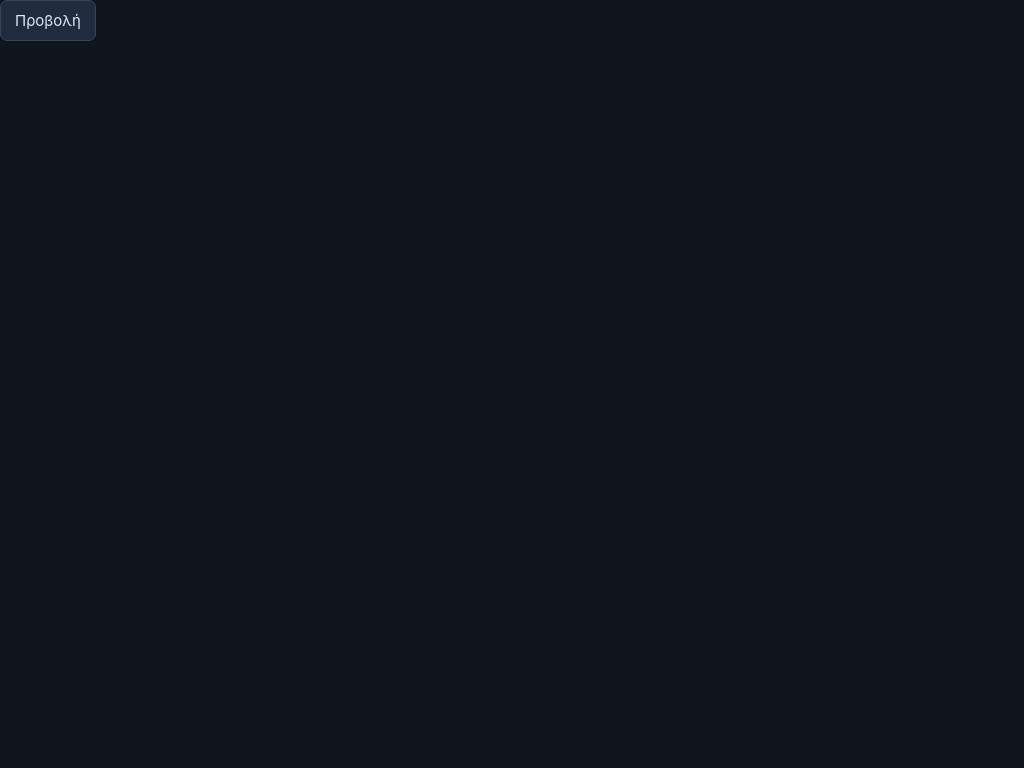
Test: safe file preview dialog › offers download without fetching unsupported or oversized archive.zip
The image size is (1024, 768).
Click the button "Προβολή" at [48, 20], box left=0, top=0, right=96, bottom=41
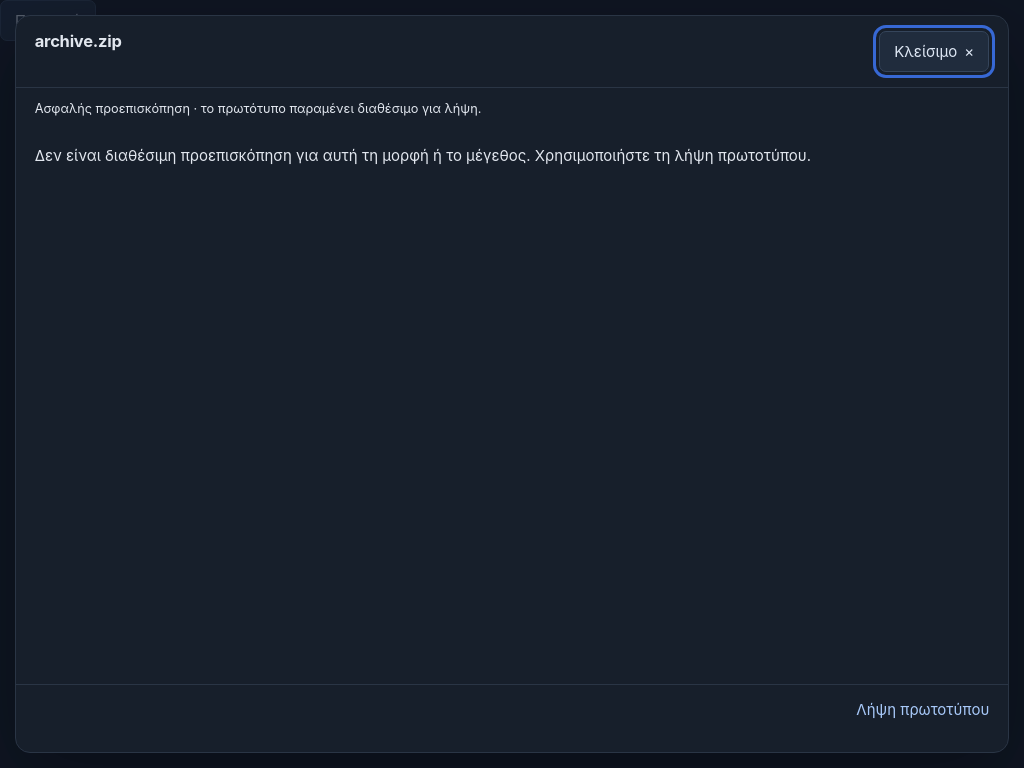
Expected: the message shows "Δεν είναι διαθέσιμη", left=35, top=146, right=811, bottom=165
